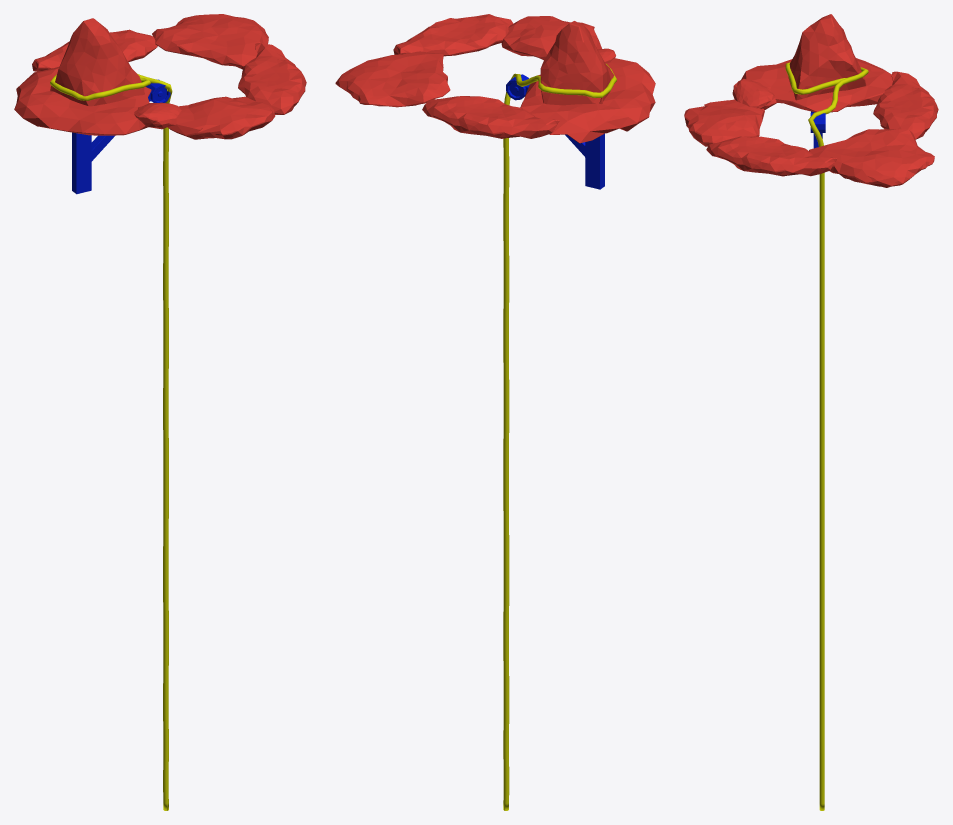
Rendered from Rappel.fbx.
The picture shows the model from 3 angles, left to right: view 1: azimuth 30°, elevation 25°; view 2: azimuth 150°, elevation 25°; view 3: azimuth 270°, elevation 25°; orthographic projection. The views are drawn at different scales.
Parts seen in each view (by area): view 1: RimRocks, Rope, Pulley; view 2: RimRocks, Rope, Pulley; view 3: RimRocks, Rope.
Boxes of the visible parts, box(x1,y1,x2,y2) form: RimRocks: box(14, 14, 306, 139); Rope: box(50, 73, 172, 810); Pulley: box(72, 79, 170, 194); RimRocks: box(335, 14, 655, 143); Rope: box(503, 64, 616, 810); Pulley: box(506, 74, 604, 189); RimRocks: box(684, 14, 938, 187); Rope: box(785, 62, 868, 810).
Bounding box in the file's own units: 990 × 2797 × 848.
